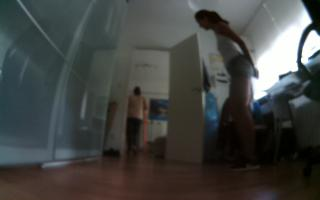person: (192, 7, 263, 173), (126, 79, 149, 162)
